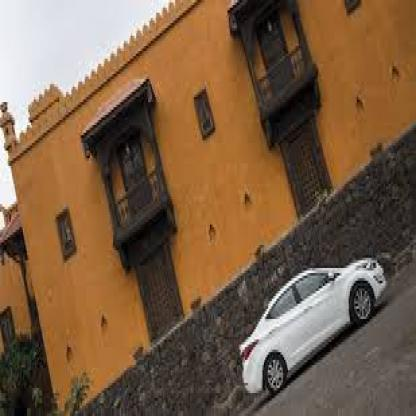car: (226, 252, 395, 397)
